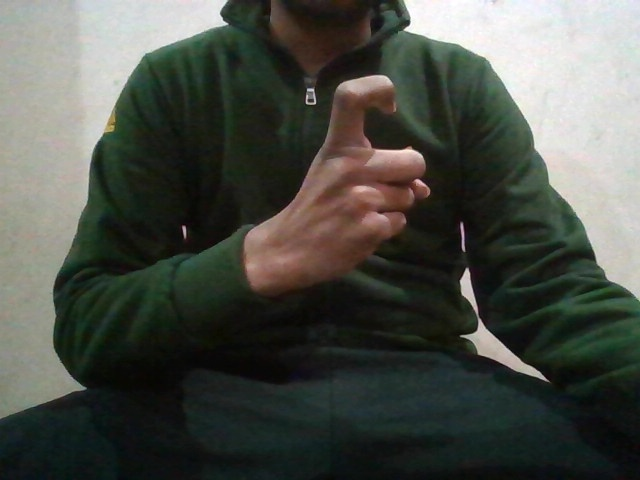P: (301, 73, 435, 286)
